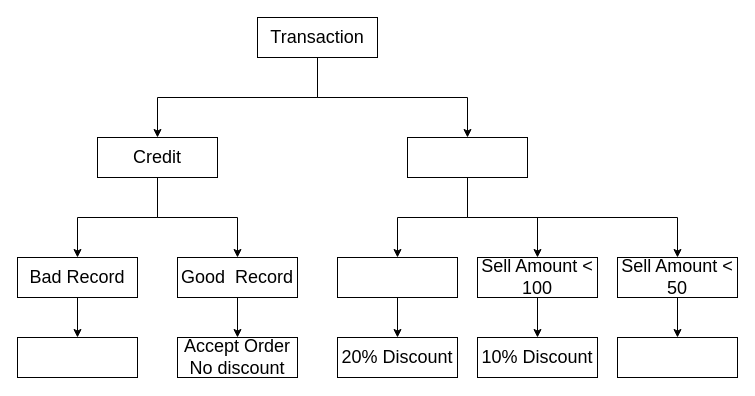
Image size: 755x396. Some labels were removed from this diagram. Each missing label, with the centre of its shape:
Cash: pixel 467 157
No Discount: pixel 677 357
Reject Order: pixel 77 357
Sell Amount > 100: pixel 397 277
